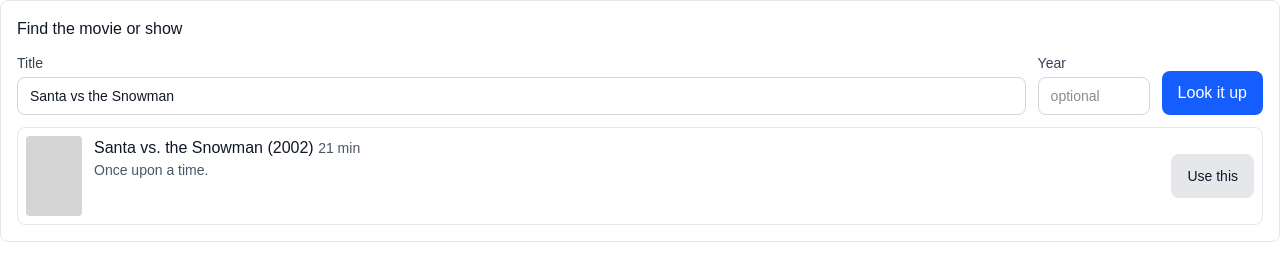
Test: results from TheTVDB › a result only TheTVDB has shows its poster, and says where it is from once used
This screenshot has width=1280, height=259.
What coordinates should you click on to do the following:
click the button "Use this"
I would click on:
 (1213, 176)
Its box is [1171,154,1254,198].
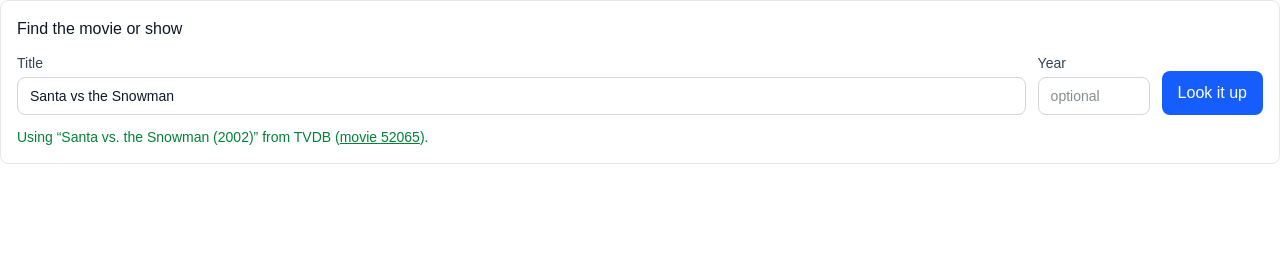
Expected: the text "Using “Santa vs. the Snowman (2002)” from TVDB" is shown, [17,129,428,145]
